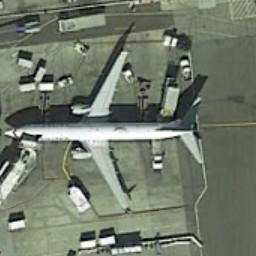Airplane: (2, 30, 215, 226)
